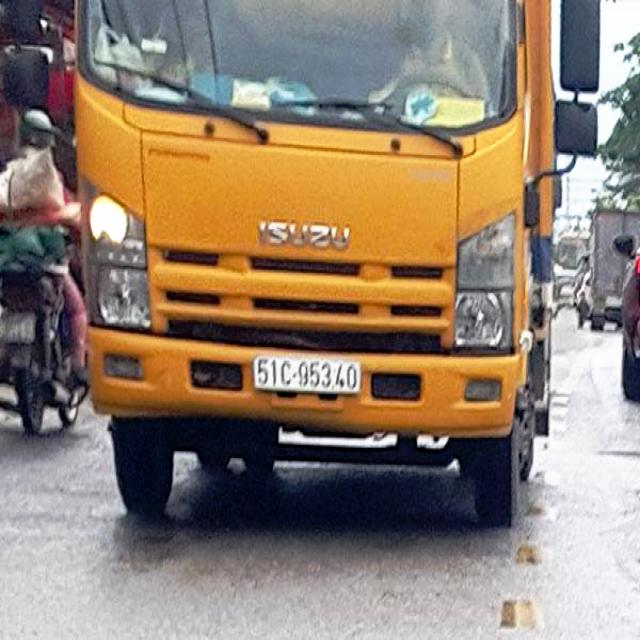license_plate: (254, 356, 363, 392)
